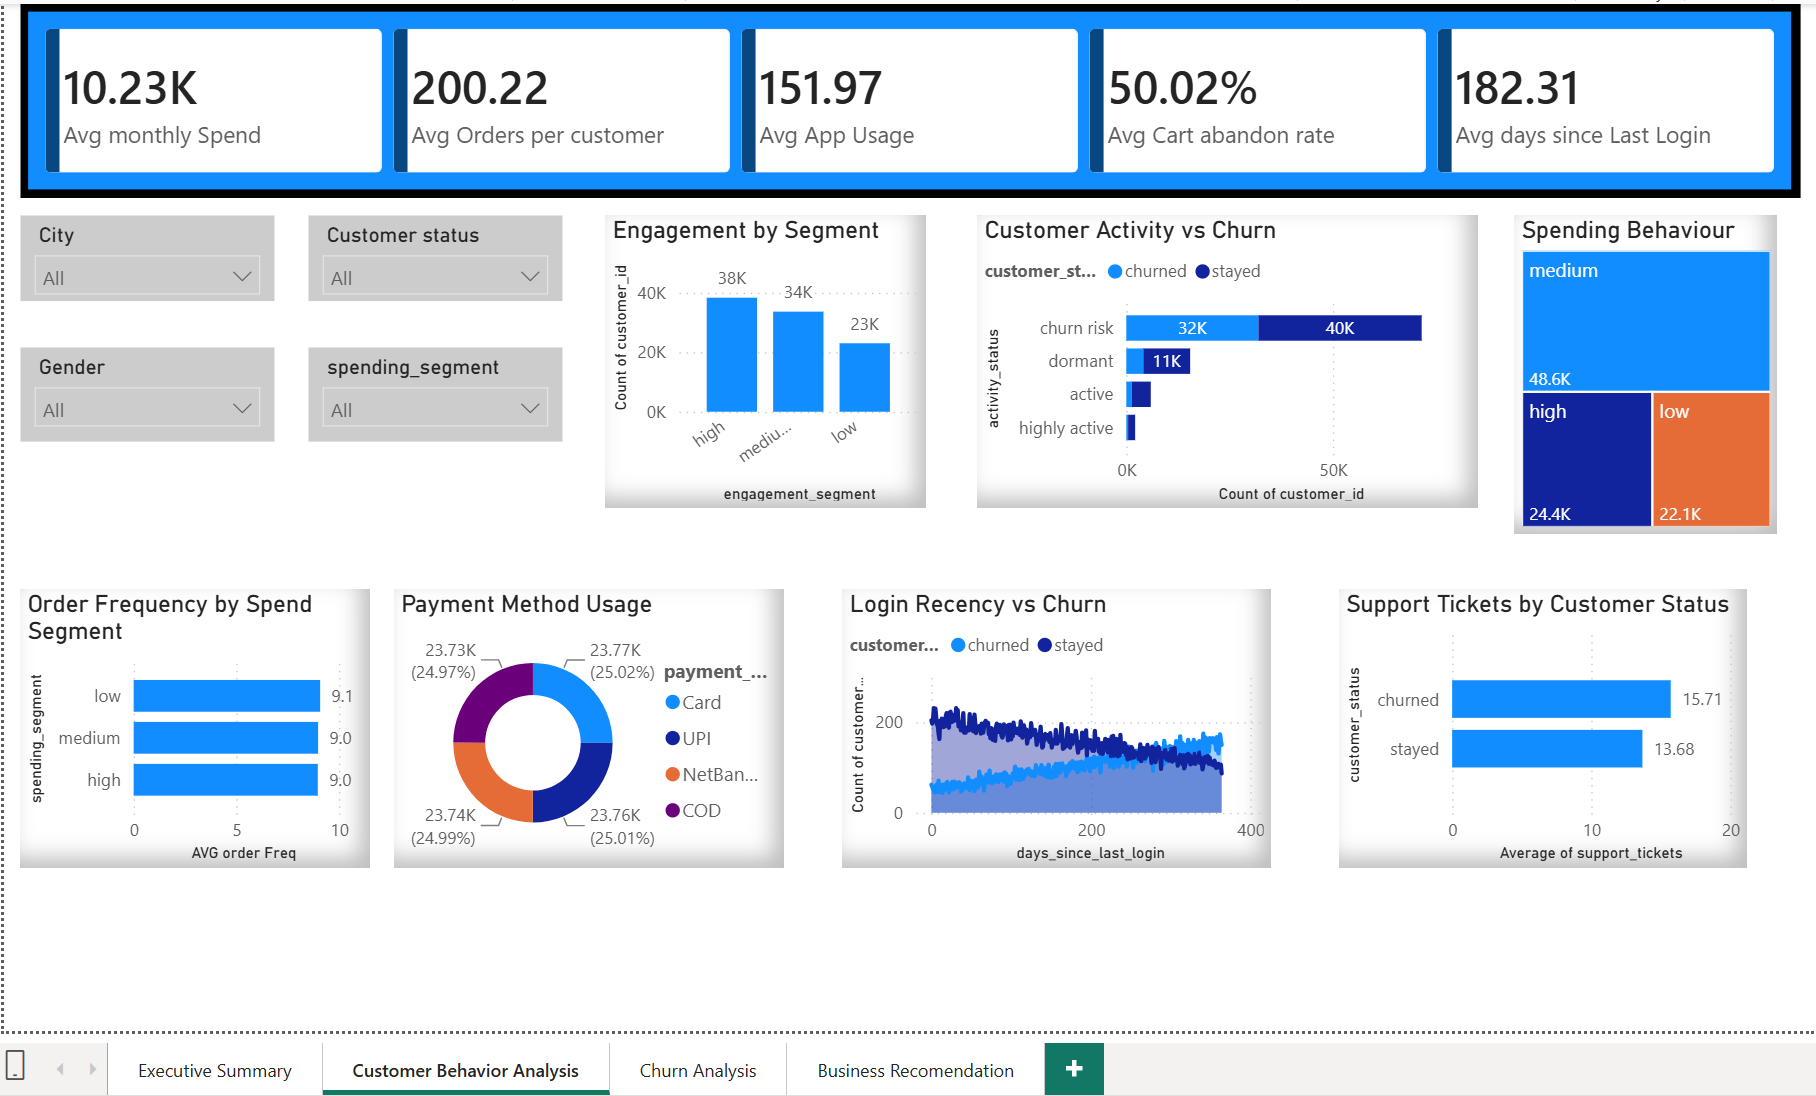

The page's visual inventory and layout, read from the dashboard file:
{"tool":"powerbi","page":{"name":"Customer Behavior Analysis","canvas":[1280,720],"ordinal":1},"visuals":[{"type":"cardVisual","fields":{"Data":["SQL_data.Avg monthly Spend","SQL_data.Avg Orders per customer","SQL_data.Avg App Usage","SQL_data.Avg Cart abandon rate","SQL_data.Avg days since Last Login"]},"box":[11.3,0,1247.7,135.8],"z":0},{"type":"clusteredColumnChart","title":"Engagement by Segment","fields":{"Category":["SQL_data.engagement_segment"],"Y":["Count(SQL_data.customer_id)"]},"box":[421.8,148.7,224.6,205.3],"z":1000},{"type":"barChart","title":"Customer Activity vs Churn","fields":{"Category":["SQL_data.activity_status"],"Y":["Count(SQL_data.customer_id)"],"Series":["SQL_data.customer_status"]},"box":[682,148.7,350.7,205.3],"z":2000},{"type":"treemap","title":"Spending Behaviour","fields":{"Values":["Count(SQL_data.customer_id)"],"Group":["SQL_data.spending_segment"]},"box":[1058.6,148.7,184.2,223],"z":3000},{"type":"clusteredBarChart","title":"Order Frequency by Spend Segment","fields":{"Y":["SQL_data.AVG order Freq"],"Category":["SQL_data.spending_segment"]},"box":[11.3,410.5,245.7,195.6],"z":5000},{"type":"donutChart","title":"Payment Method Usage","fields":{"Category":["SQL_data.payment_method"],"Y":["CountNonNull(SQL_data.customer_id)"]},"box":[273.1,410.5,273.1,195.6],"z":6000},{"type":"areaChart","title":"Login Recency vs Churn","fields":{"Category":["SQL_data.days_since_last_login"],"Y":["Count(SQL_data.customer_id)"],"Series":["SQL_data.customer_status"]},"box":[588.3,410.5,300.6,195.6],"z":7000},{"type":"barChart","title":"Support Tickets by Customer Status","fields":{"Y":["Avg(SQL_data.support_tickets)"],"Category":["SQL_data.customer_status"]},"box":[935.8,410.5,286.1,195.6],"z":8000},{"type":"slicer","fields":{"Values":["SQL_data.city"]},"box":[11.3,148.7,177.8,59.8],"z":9000},{"type":"slicer","fields":{"Values":["SQL_data.gender"]},"box":[11.3,240.8,177.8,66.3],"z":10000},{"type":"slicer","fields":{"Values":["SQL_data.customer_status"]},"box":[213.3,148.7,177.8,59.8],"z":11000},{"type":"slicer","fields":{"Values":["SQL_data.spending_segment"]},"box":[213.3,240.8,177.8,66.3],"z":12000}]}

Visuals, with their boxes on the page's 1280x720 design canvas (x1, y1, x2, y2). These are canvas units, not pixel positions in the 1816x1096 screenshot, which may show the page scaled, cropped or inside an application window:
cardVisual - SQL_data.Avg monthly Spend x SQL_data.Avg Orders per customer: 11 0 1259 136
"Engagement by Segment" clusteredColumnChart: 422 149 646 354
"Customer Activity vs Churn" barChart: 682 149 1033 354
"Spending Behaviour" treemap: 1059 149 1243 372
"Order Frequency by Spend Segment" clusteredBarChart: 11 410 257 606
"Payment Method Usage" donutChart: 273 410 546 606
"Login Recency vs Churn" areaChart: 588 410 889 606
"Support Tickets by Customer Status" barChart: 936 410 1222 606
slicer - SQL_data.city: 11 149 189 208
slicer - SQL_data.gender: 11 241 189 307
slicer - SQL_data.customer_status: 213 149 391 208
slicer - SQL_data.spending_segment: 213 241 391 307
